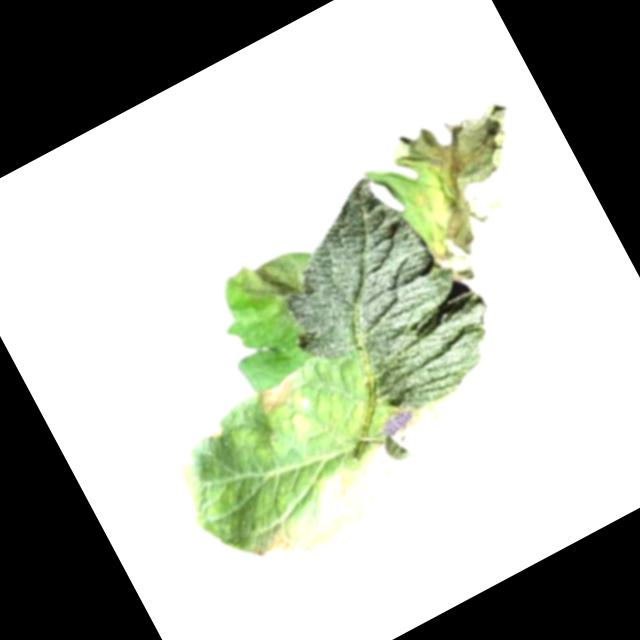Late_blight: (376, 85, 572, 292), (313, 440, 412, 528), (245, 501, 334, 579), (227, 240, 310, 318), (250, 372, 306, 420), (168, 462, 210, 518), (203, 417, 229, 442)
